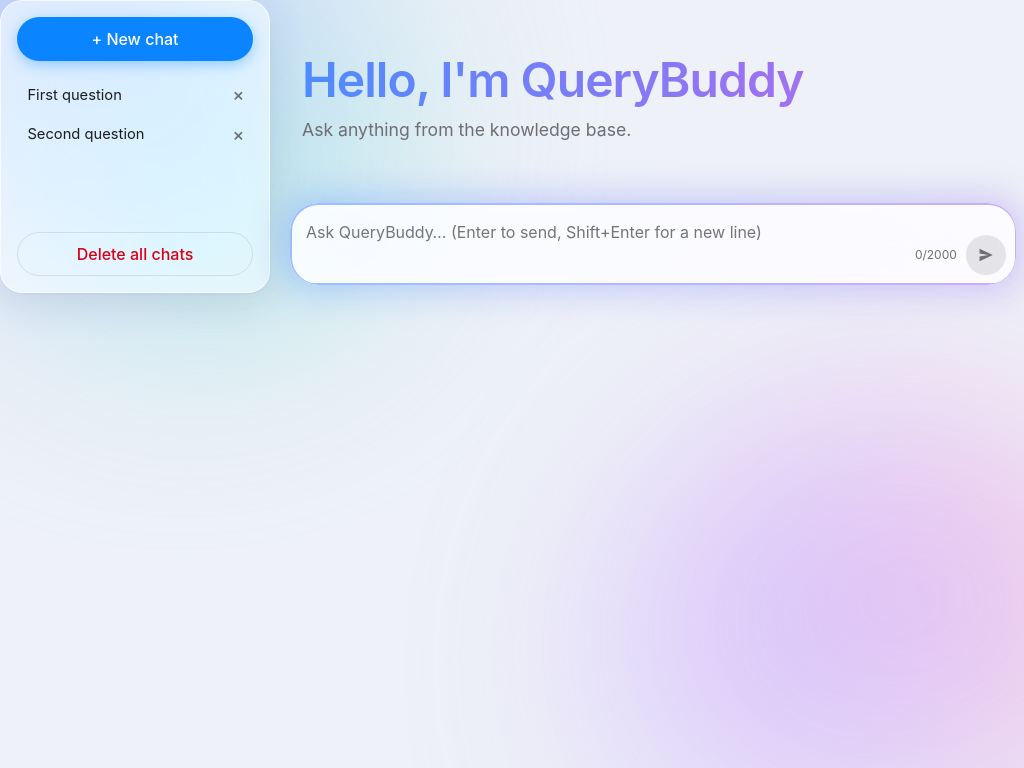
it: ChatPage delete all › deletes every conversation after confirmation
Step 1. Click the button "Delete all chats" → (135, 254), box top-left (17, 232), bottom-right (253, 276)
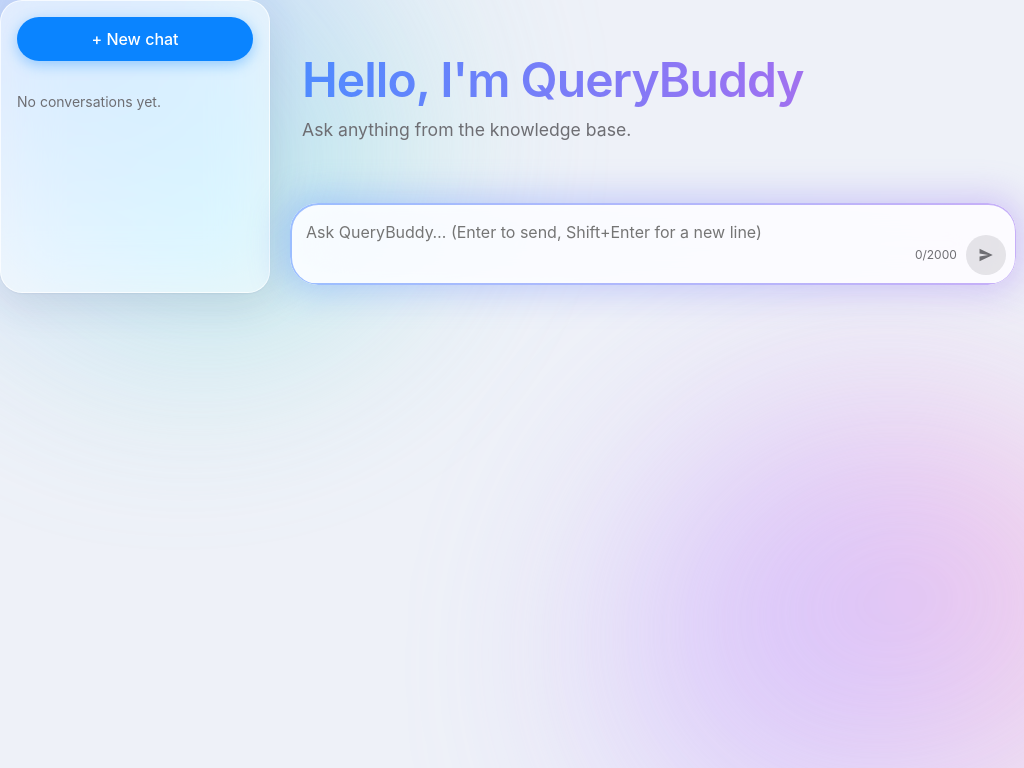
Expected: the text "No conversations yet." is shown, top-left (17, 93), bottom-right (161, 110)
Expected: the button "Delete all chats" is gone
